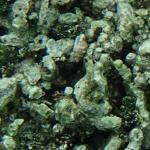dead: (1, 1, 142, 145)
